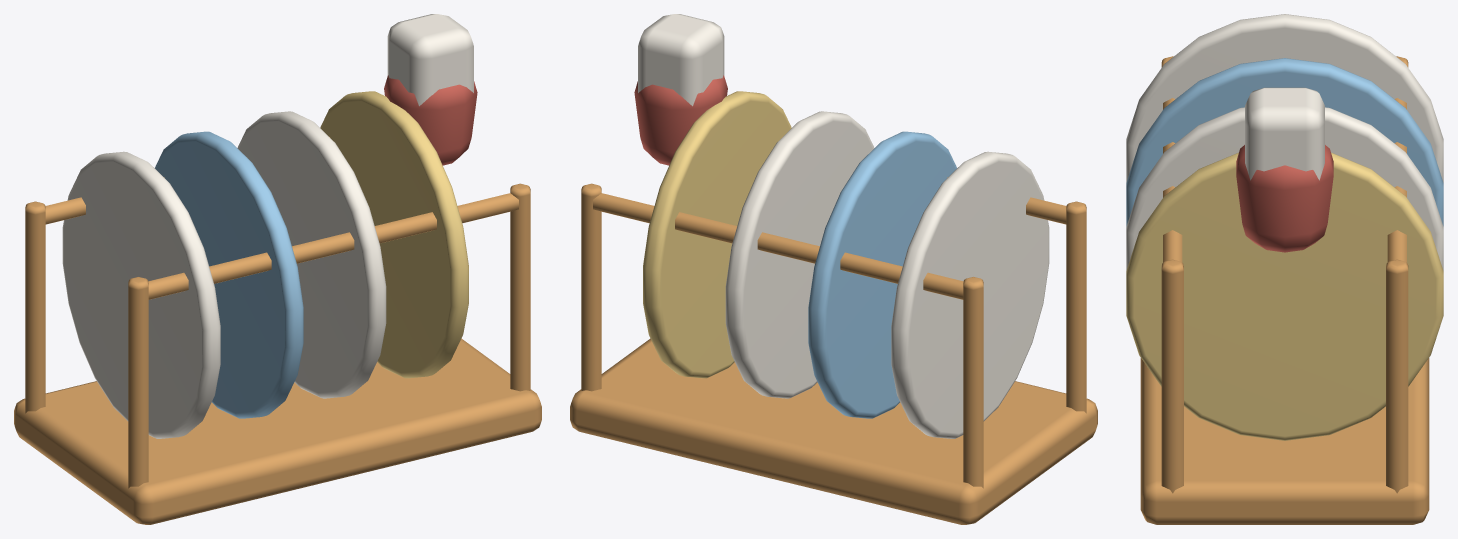
File: kitchen_plate_rack.glb
The picture shows the model from 3 angles, left to right: view 1: azimuth 30°, elevation 25°; view 2: azimuth 150°, elevation 25°; view 3: azimuth 270°, elevation 25°; orthographic projection. The views are drawn at different scales.
Parts seen in each view (by area): view 1: kitchen_plate_rack_mesh; view 2: kitchen_plate_rack_mesh; view 3: kitchen_plate_rack_mesh.
Part boxes in pixels (bbox=[...]): kitchen_plate_rack_mesh: bbox=[14, 14, 541, 524]; kitchen_plate_rack_mesh: bbox=[570, 14, 1097, 524]; kitchen_plate_rack_mesh: bbox=[1126, 14, 1443, 524].
Bounding box in the file's own units: 0.32 × 0.28 × 0.198.
